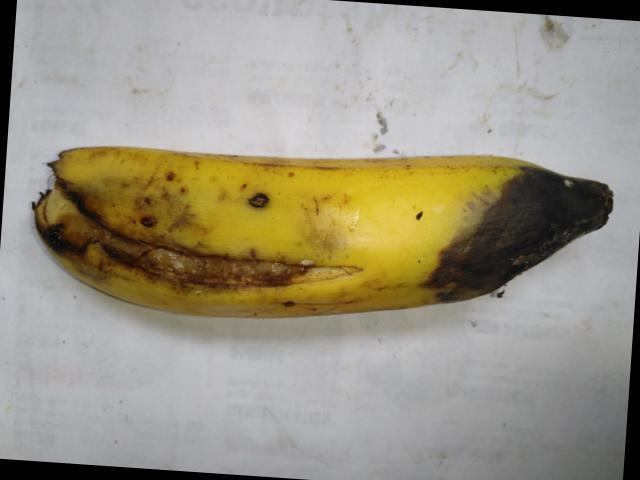rotten: (0, 114, 374, 304), (422, 139, 615, 333)
